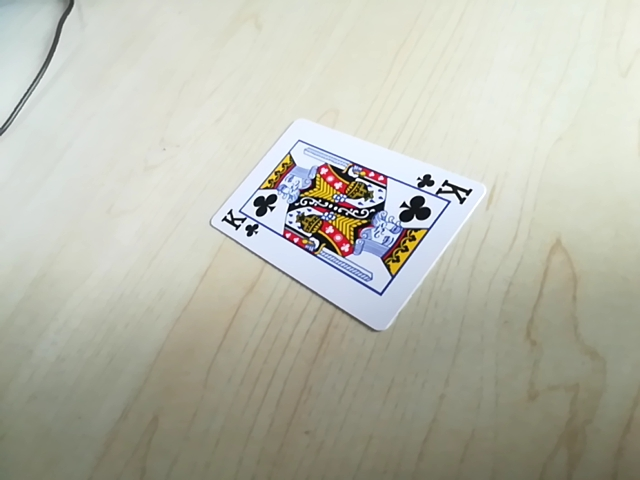mh k: (412, 169, 475, 199), (216, 210, 263, 240)
